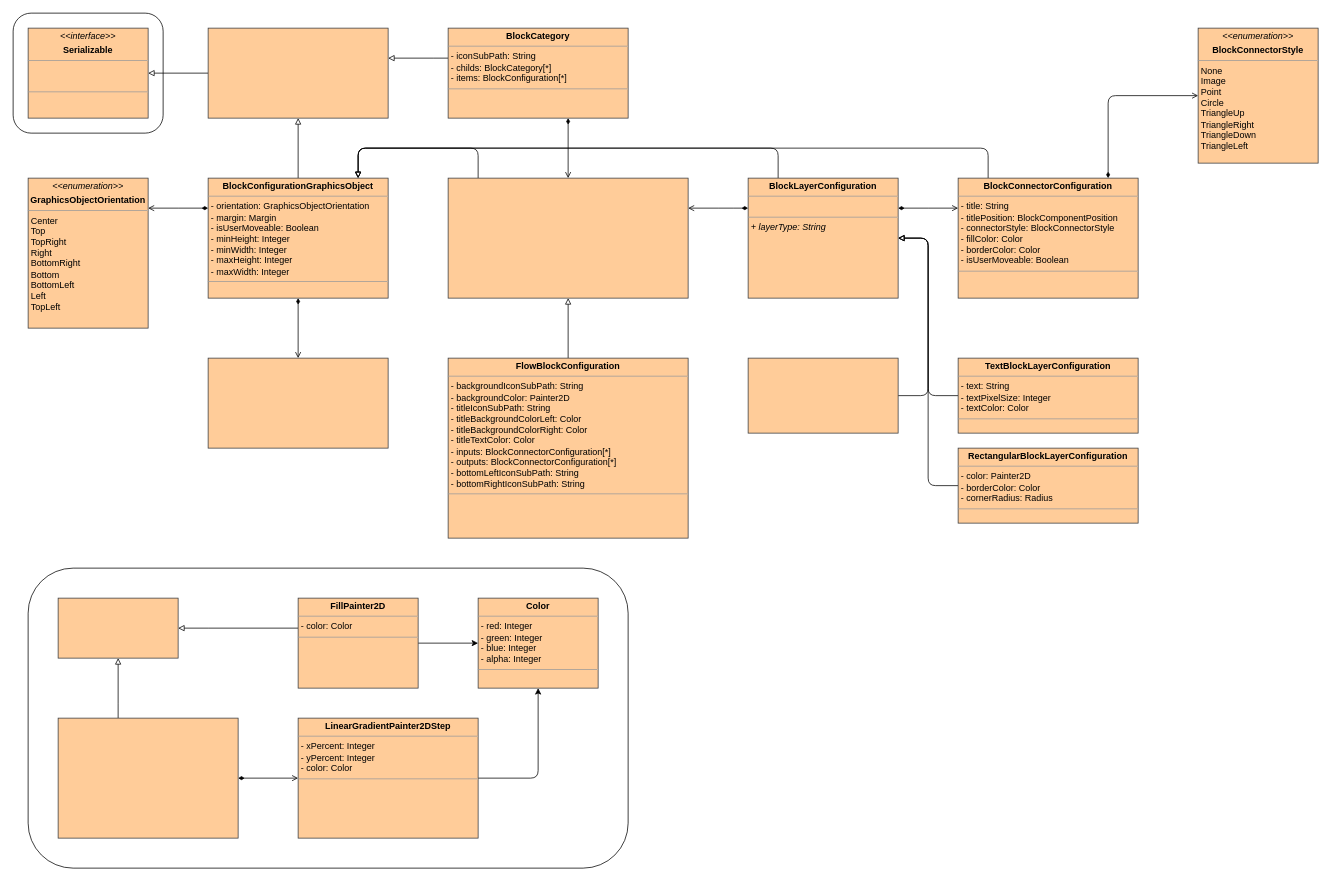
Image size: 1331x881. Some labels were removed from this diagram. The shapes that lost their labels are listed below. From the top down, each one's box as (x1, y1, x2, y2) in pixels, then its label:
(207, 27, 388, 118): BlockConfigurationObject - name: String
(447, 177, 688, 298): BlockConfiguration - layers: BlockLayerConfiguration [1..*] + blockType: String
(207, 357, 388, 448): Margin - top: Integer - right: Integer - bottom: Integer - left: Integer
(747, 357, 898, 433): ImageBlockLayerConfiguration - imageSubPath: String
(57, 597, 178, 658): Painter2D + painterType: String
(57, 717, 238, 838): LinearGradientPainter2D - steps: LinearGradientPainter2DStep [*]
